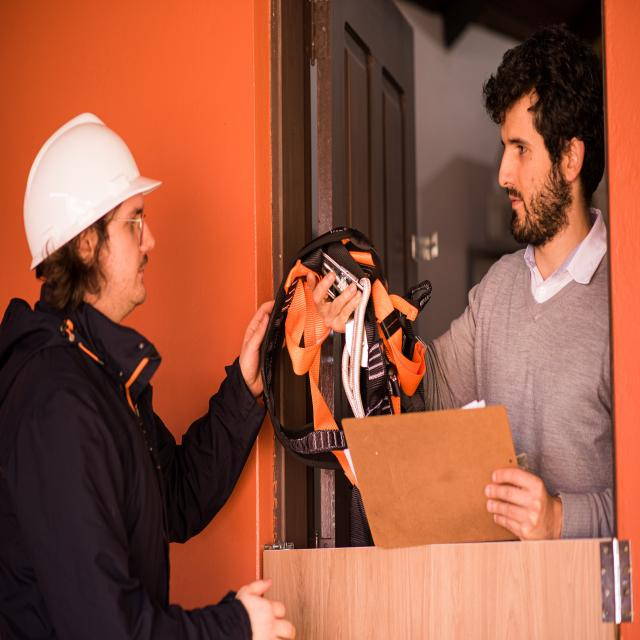capacete: (18, 106, 165, 276)
